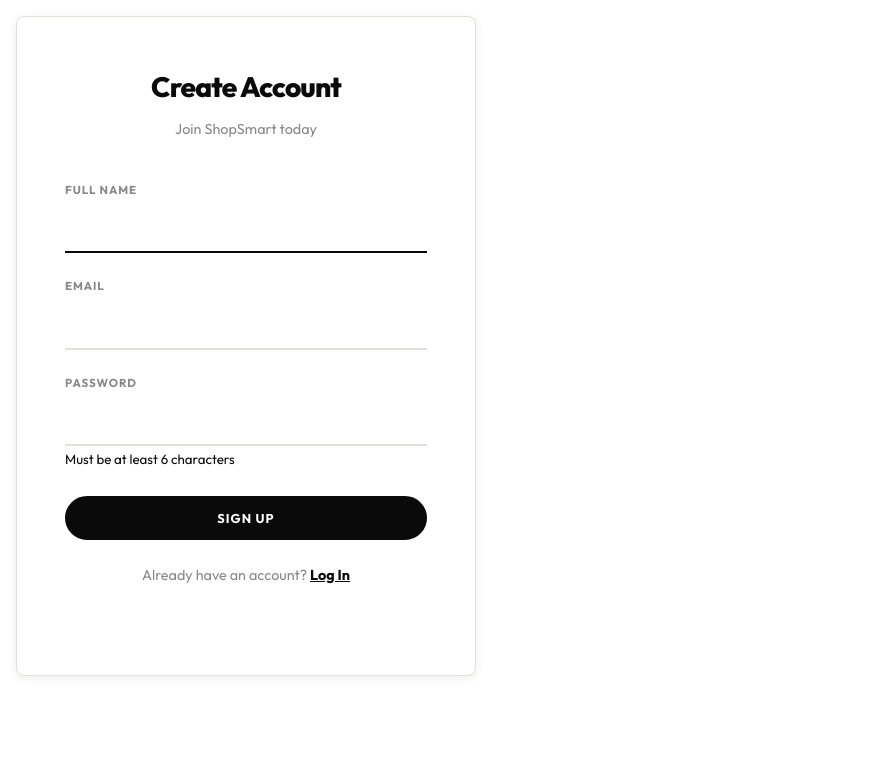
Test: RegisterPage Component › shows error message on registration failure
This screenshot has width=875, height=768.
Type "John Doe" into the field labelled "Full Name" at (246, 230), box [65,207,427,253]
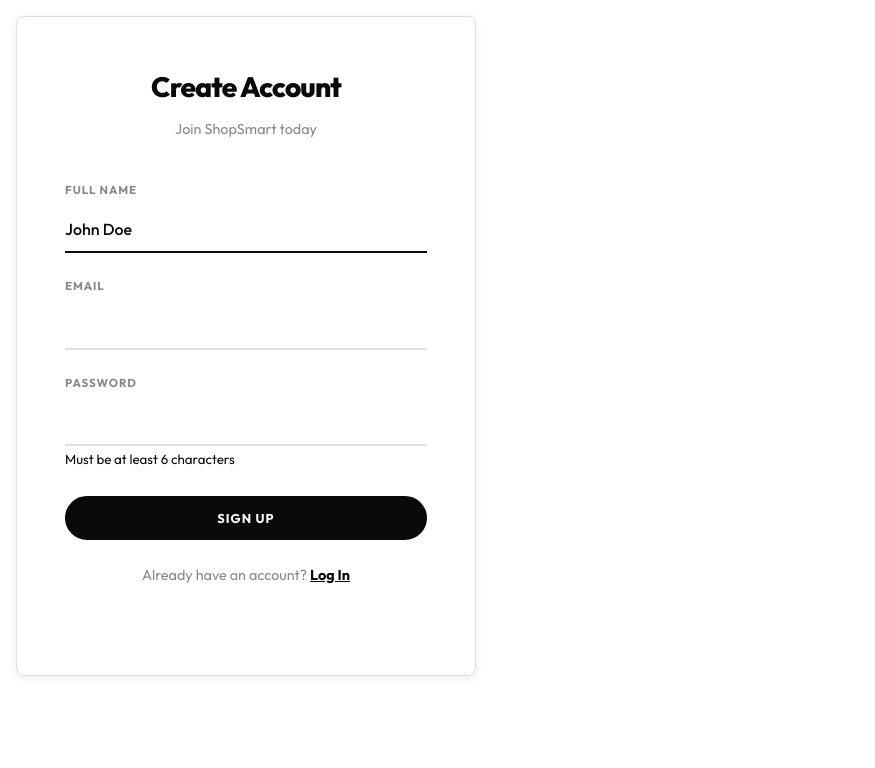
Type "john@example.com" into the field labelled "Email" at (246, 327), box [65,304,427,350]
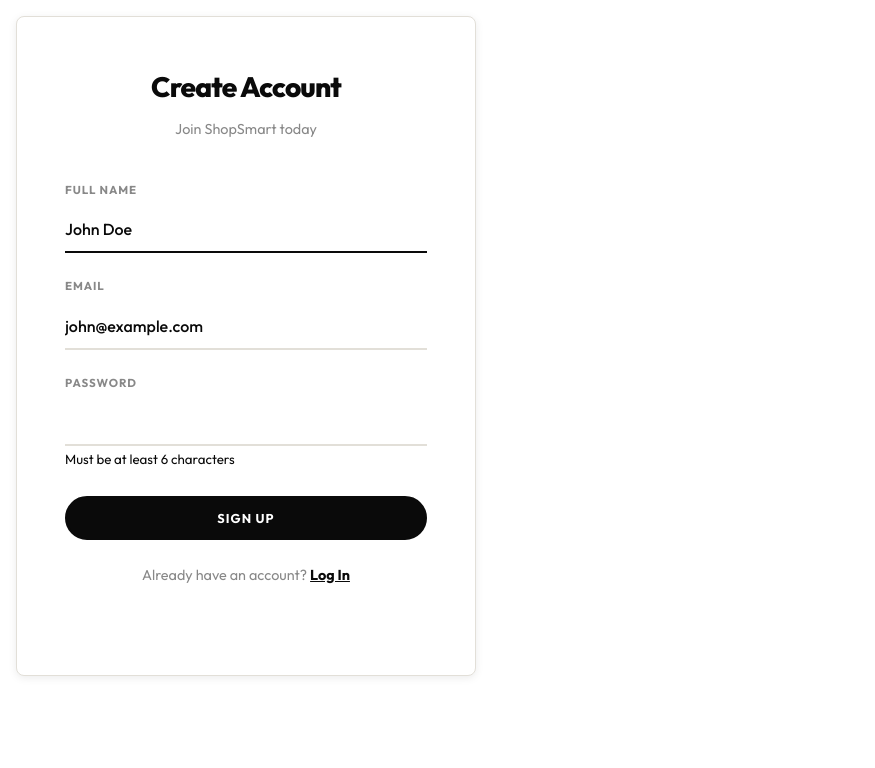
Type "password123" into the password field labelled "Password" at (246, 423), box [65,400,427,446]
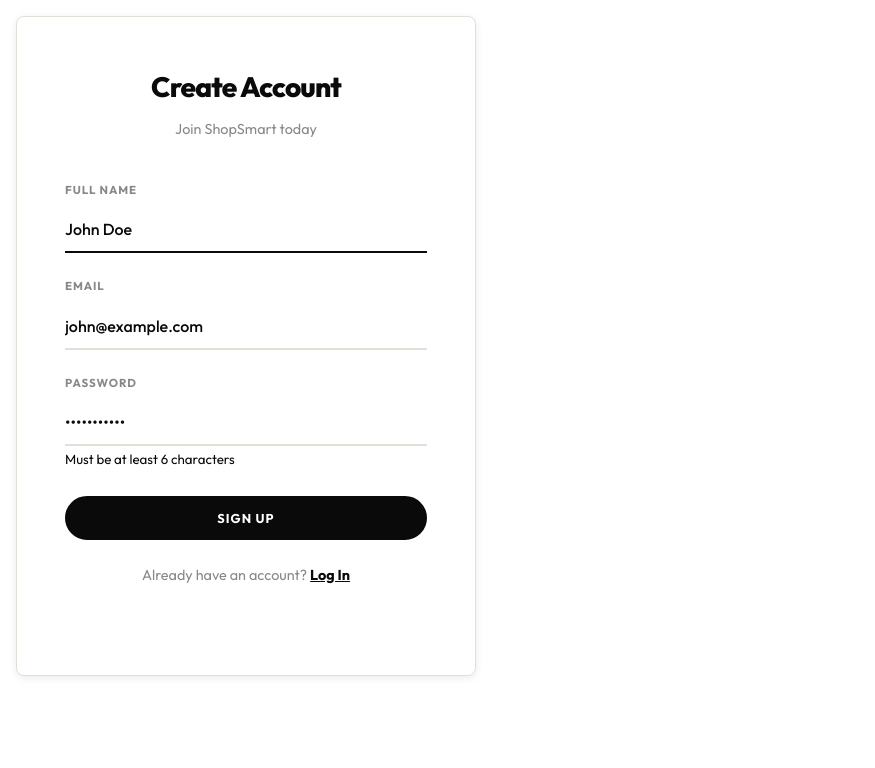
Click the button "Sign Up" at (246, 518), box [65,496,427,540]
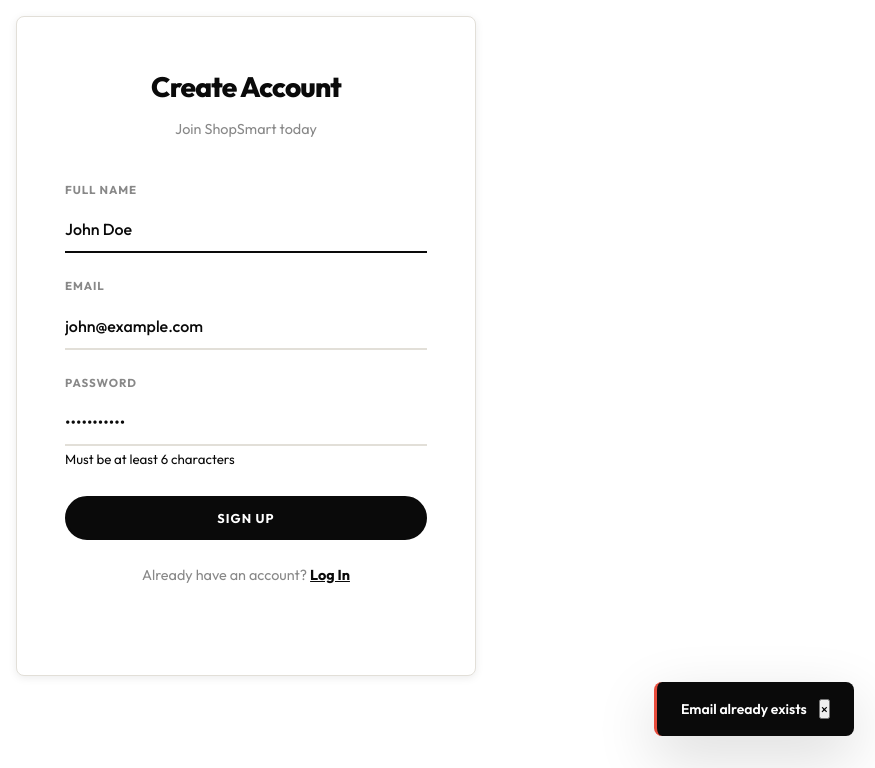
Expected: the text "Email already exists" is shown, [681,698,807,720]
